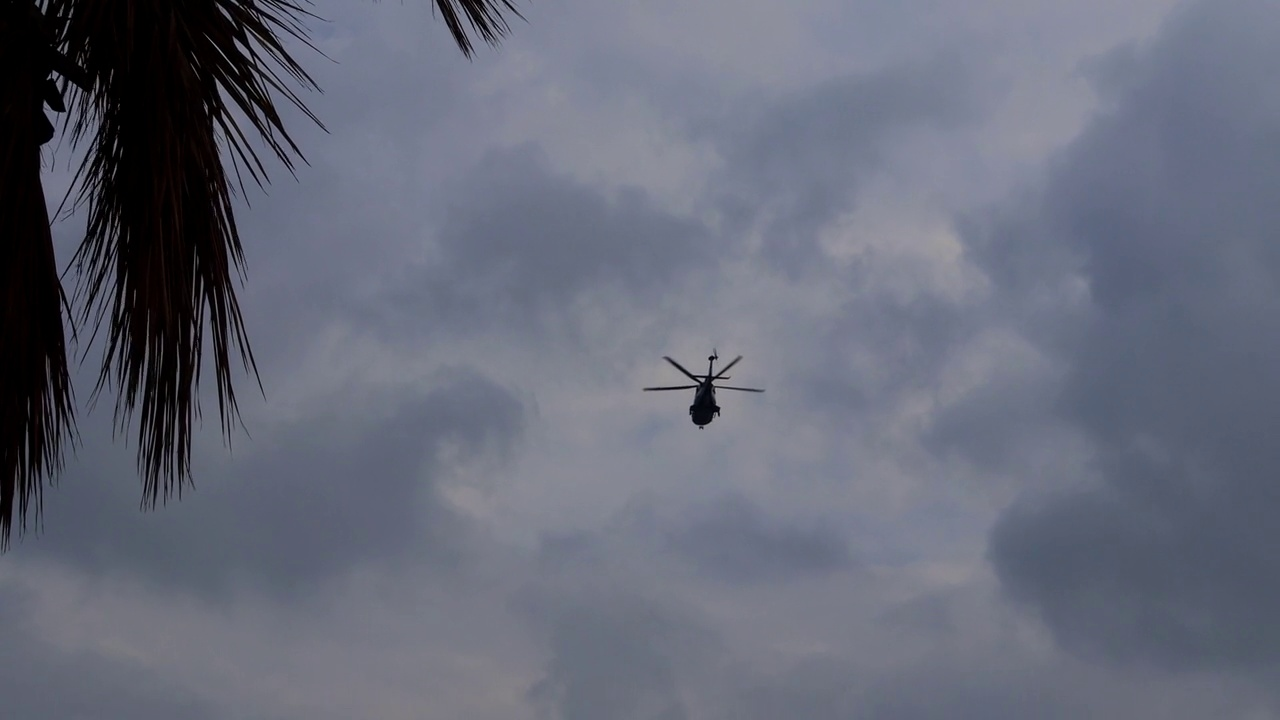heli: (644, 354, 764, 430)
